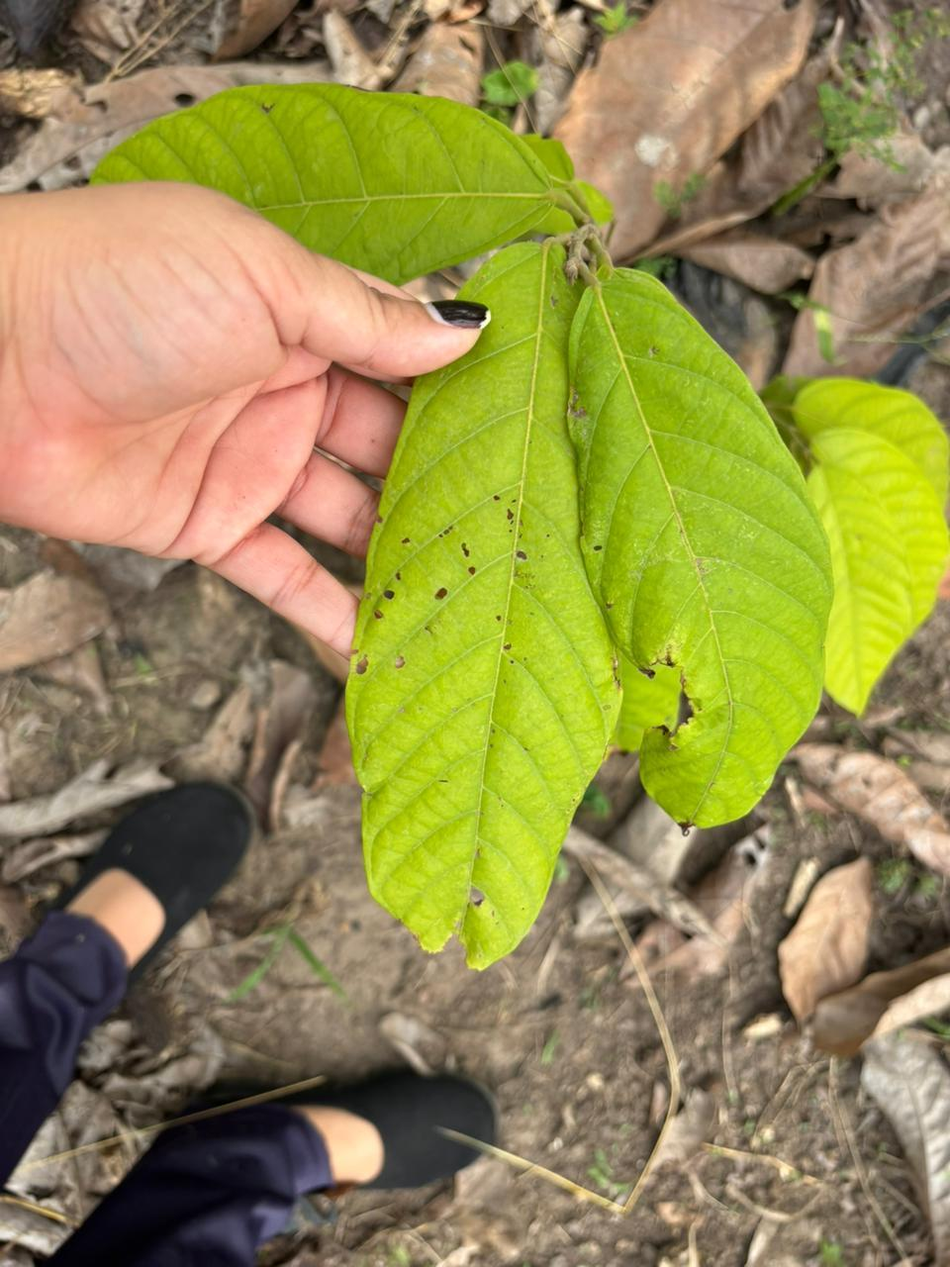deficiencia_nitrogeno: (347, 246, 618, 965), (570, 269, 832, 825)
